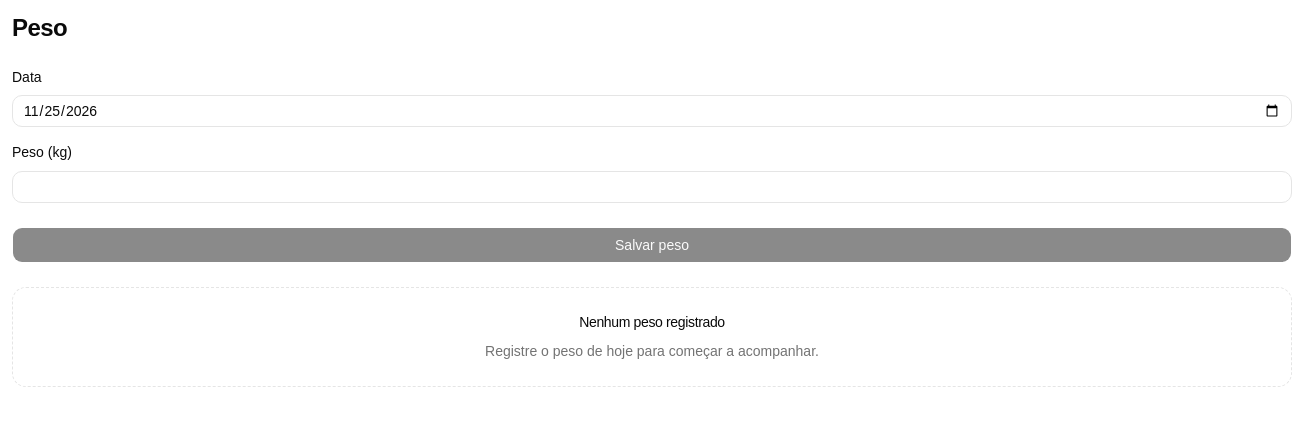
Test: WeightPage › explains a weight too low and does not send it
Later steps or results of the test are not shown.
Expected: the text "Nenhum peso registrado" is shown, [579,312,725,332]
In the number field labelled "Peso (kg)": {"x": 652, "y": 186} [12,170,1292,202], type "19.9"
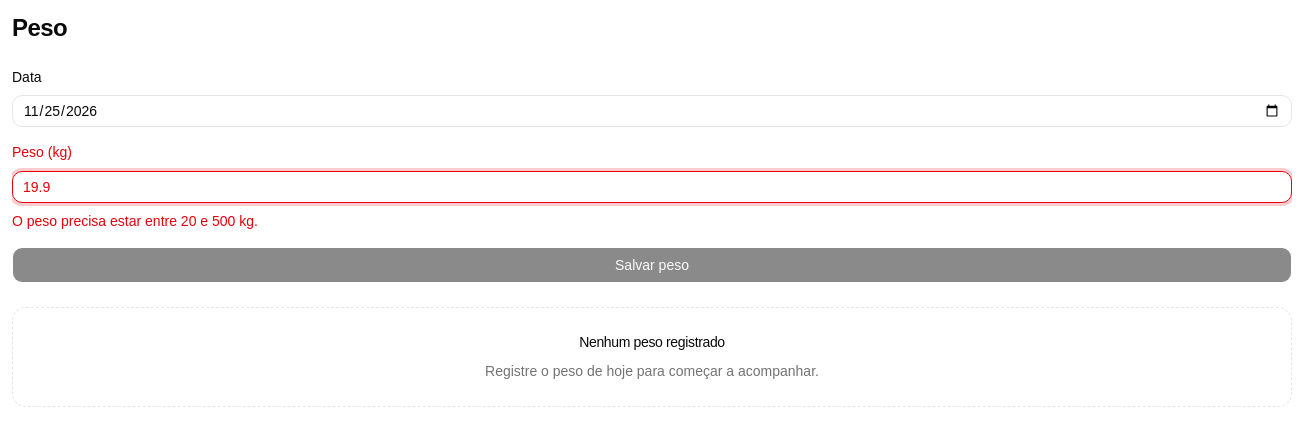
Expected: the button "Salvar peso" is disabled, [12,246,1292,282]
Expected: the text "O peso precisa estar entre 20 e 500 kg." is shown, [12,212,258,228]
